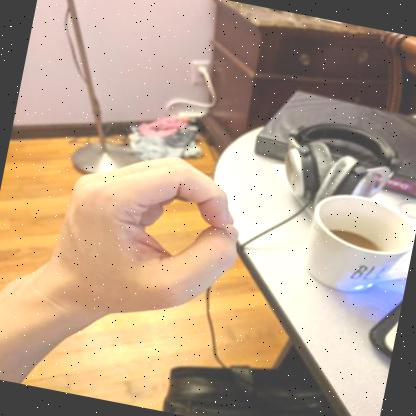O: (36, 157, 238, 314)
